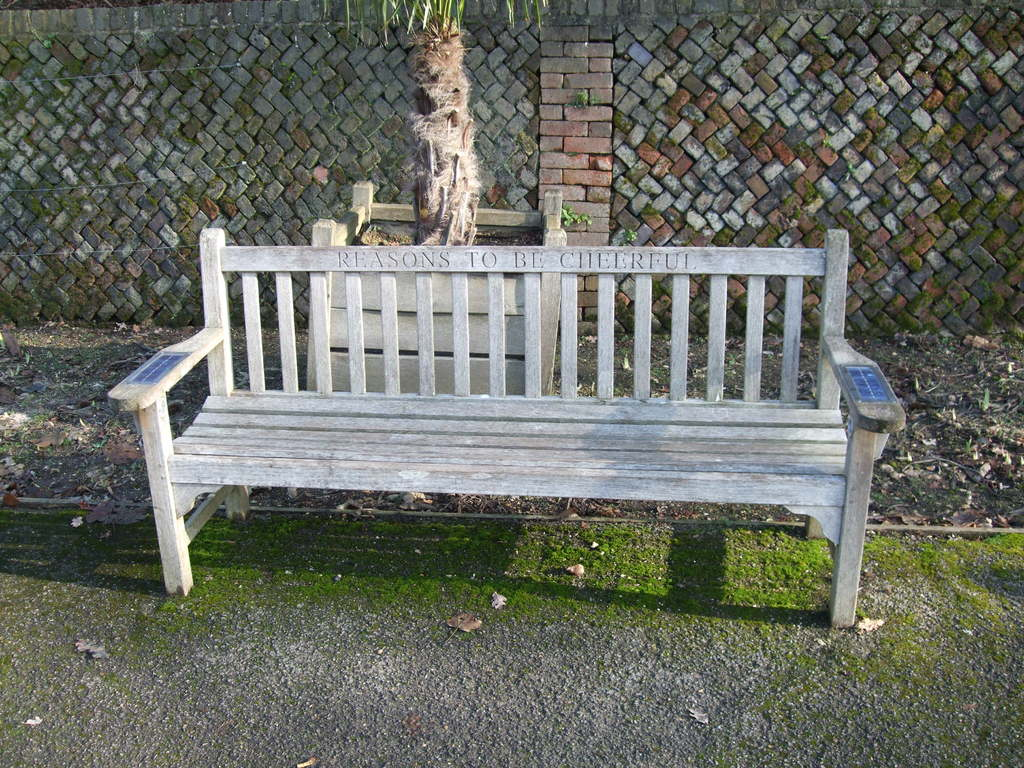Tree: (275, 0, 547, 245)
